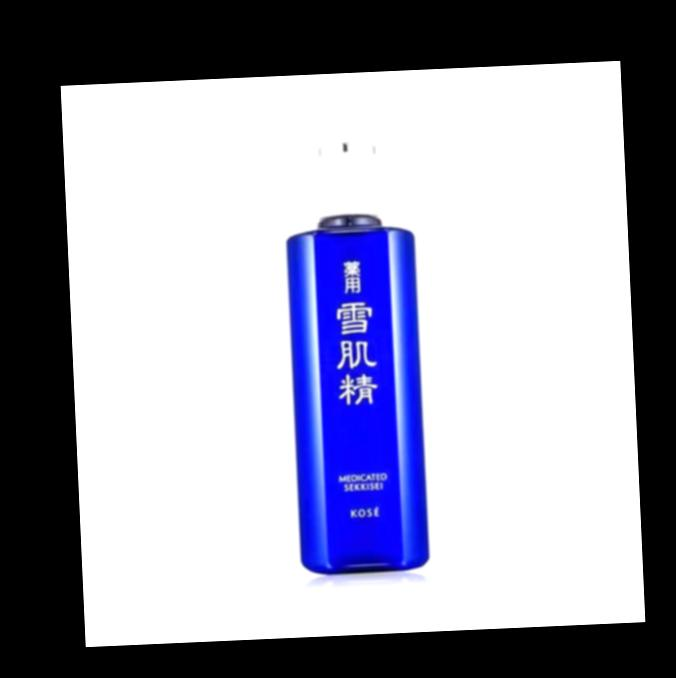cosmetic: (279, 142, 437, 576)
